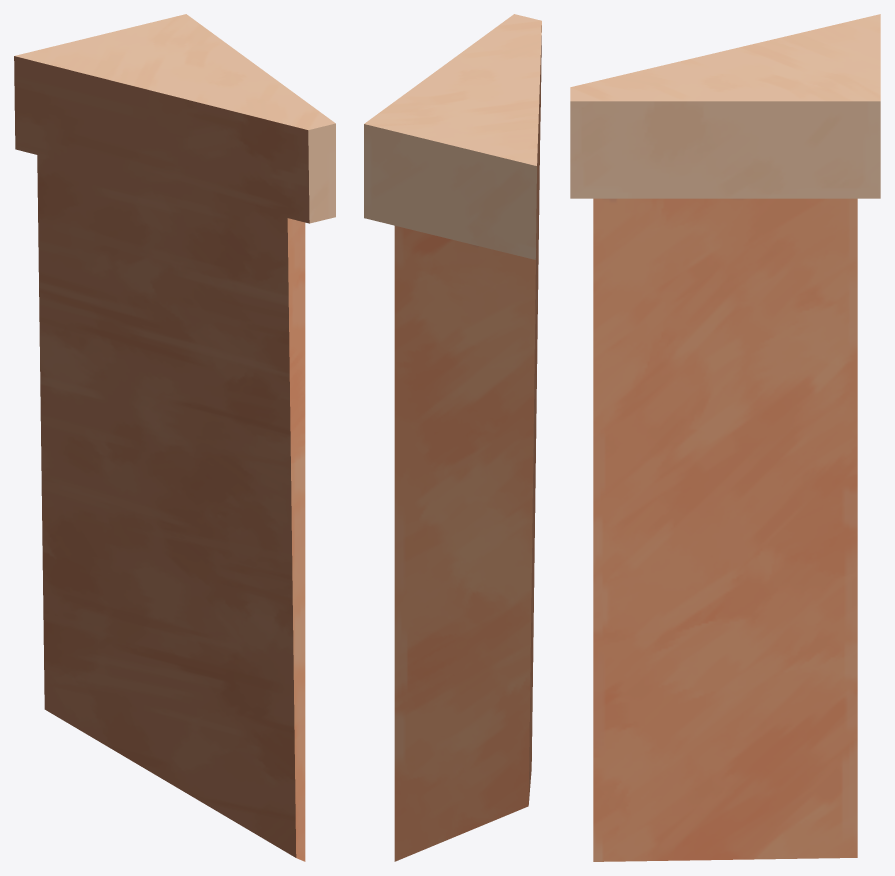
Rendered from corner2_upper_s00.fbx.
3 views of the same model, side by side, from view 1: azimuth 30°, elevation 25°; view 2: azimuth 150°, elevation 25°; view 3: azimuth 270°, elevation 25° (orthographic). The views are drawn at different scales.
Parts seen in each view (by area): view 1: corner2_upper_s00; view 2: corner2_upper_s00; view 3: corner2_upper_s00.
Boxes of the visible parts, x1,y1,x2,y2 form: corner2_upper_s00: (14, 14, 335, 861); corner2_upper_s00: (364, 14, 541, 861); corner2_upper_s00: (570, 14, 880, 861).
Size of the model in its own units: 1.25 by 5.15 by 1.88.
